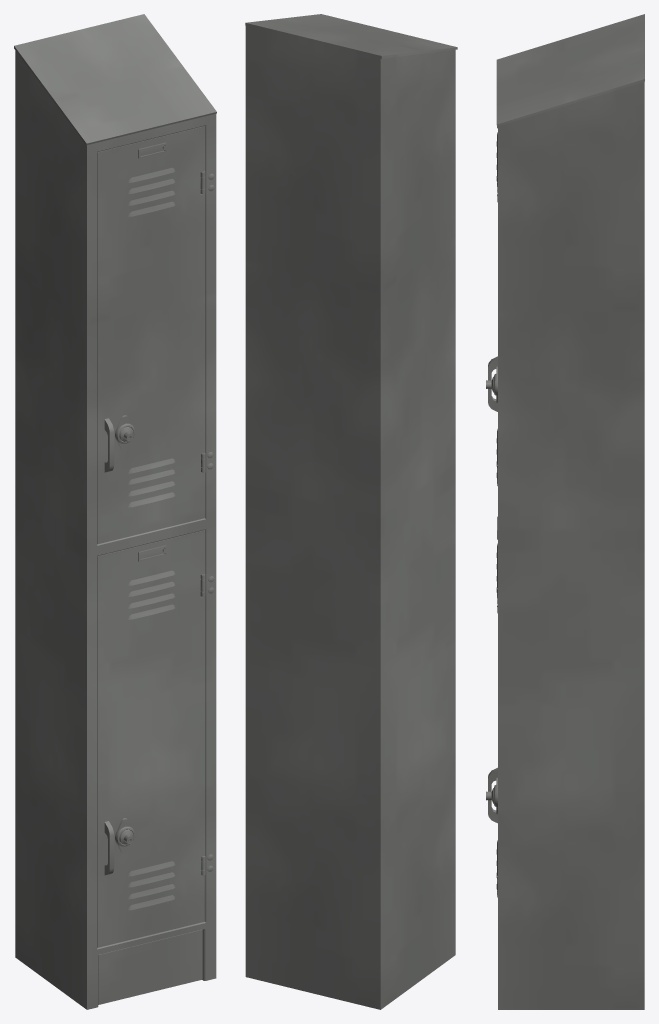
Rendered from locker.glb.
3 views of the same model, side by side, from view 1: azimuth 30°, elevation 25°; view 2: azimuth 150°, elevation 25°; view 3: azimuth 270°, elevation 25° (orthographic). The views are drawn at different scales.
Parts seen in each view (by area): view 1: locker, door_top, door_bottom; view 2: locker; view 3: locker, door_bottom, door_top.
Boxes of the visible parts, box(x1,y1,x2,y2) form: locker: box(14, 14, 216, 1009); door_top: box(97, 126, 204, 544); door_bottom: box(97, 530, 204, 947); locker: box(245, 14, 457, 1009); locker: box(496, 14, 644, 1009); door_bottom: box(486, 516, 497, 897); door_top: box(486, 126, 497, 485).
Size of the model in its own units: 0.1996 by 1.33 by 0.2059.
Materials: 1 (1 with a texture image).
